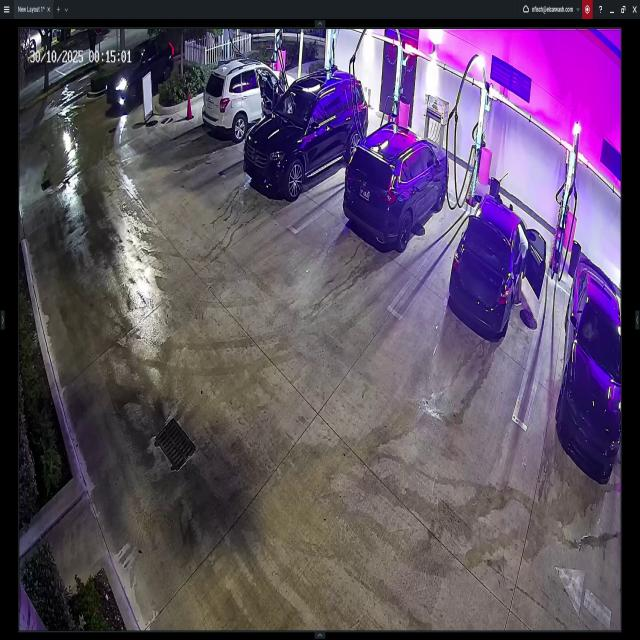Car: (247, 66, 367, 194), (559, 250, 622, 481), (341, 121, 449, 252), (447, 191, 547, 328), (205, 52, 298, 132), (108, 37, 174, 108)
